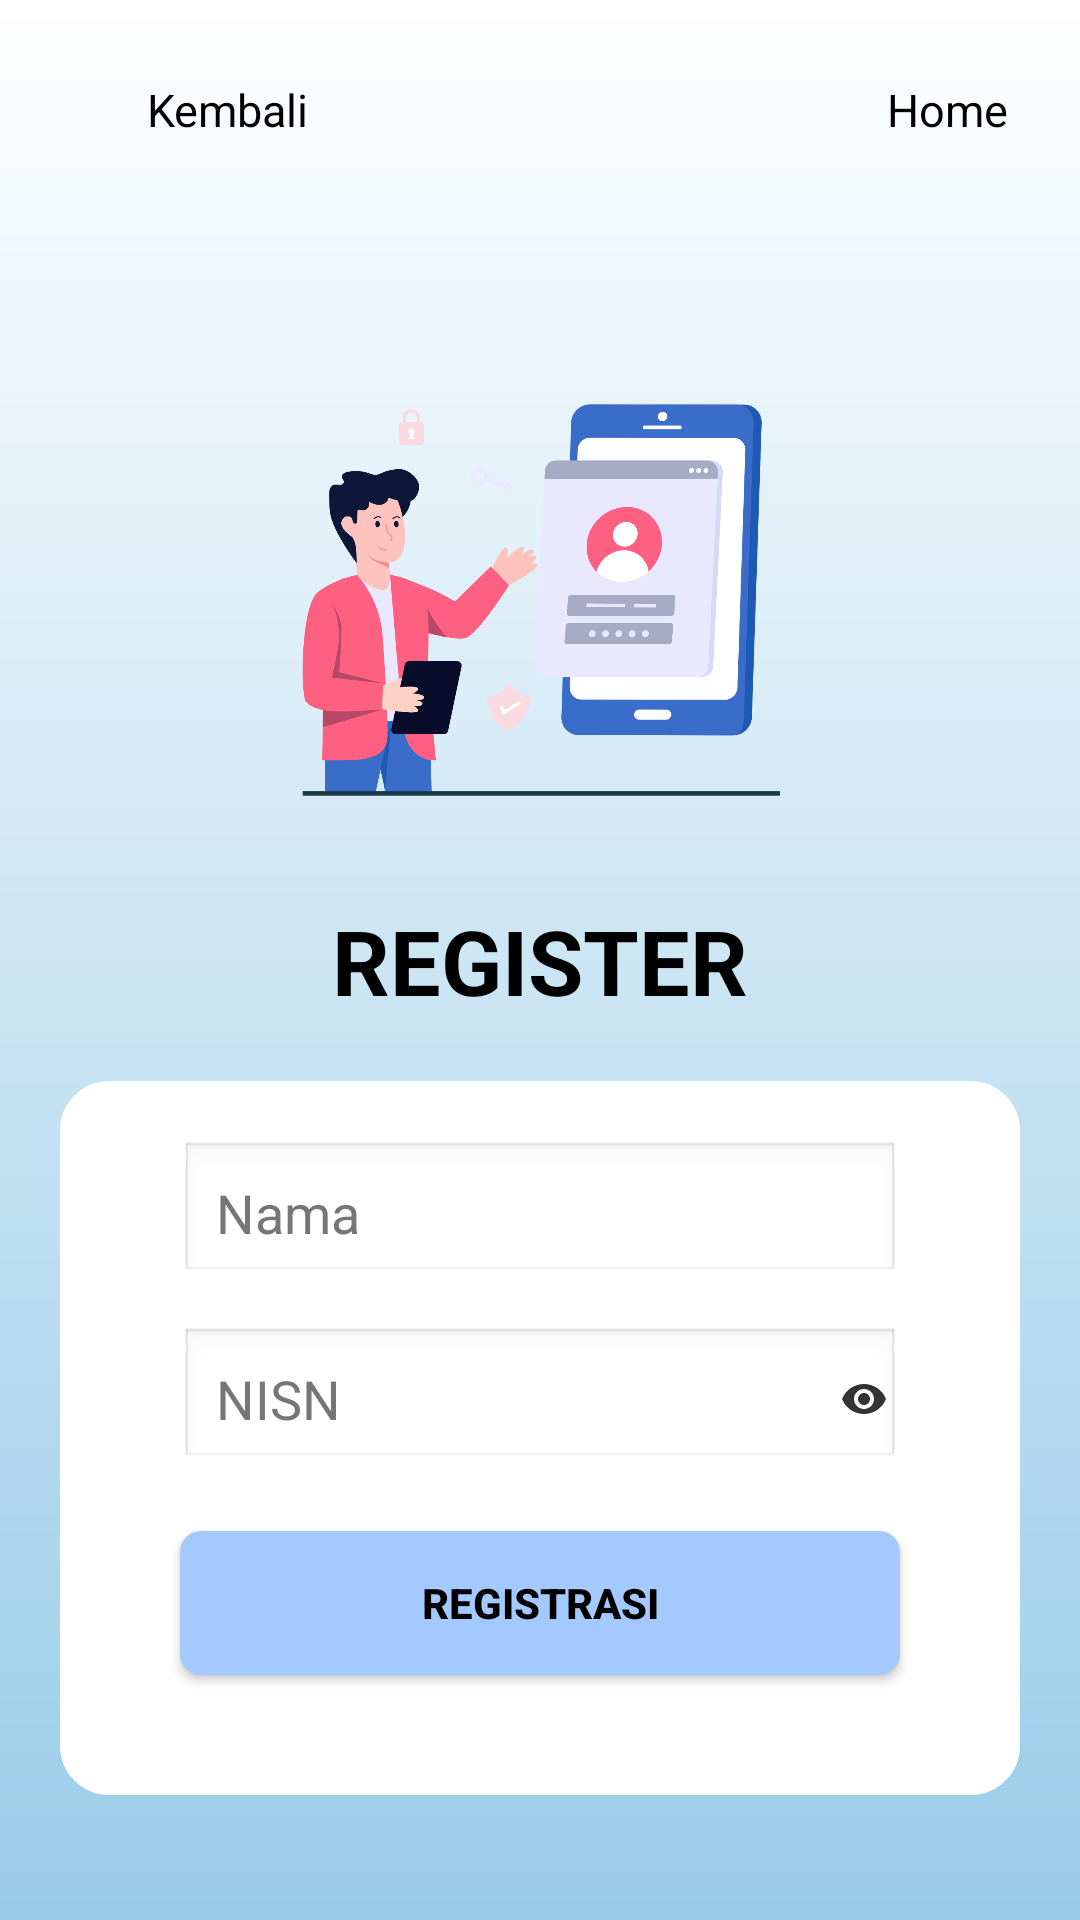

Where icons sit on this 1080*1920 app screen, as (x1, y1, x2, y2):
Toggle Eye: (842, 1384, 886, 1414)
